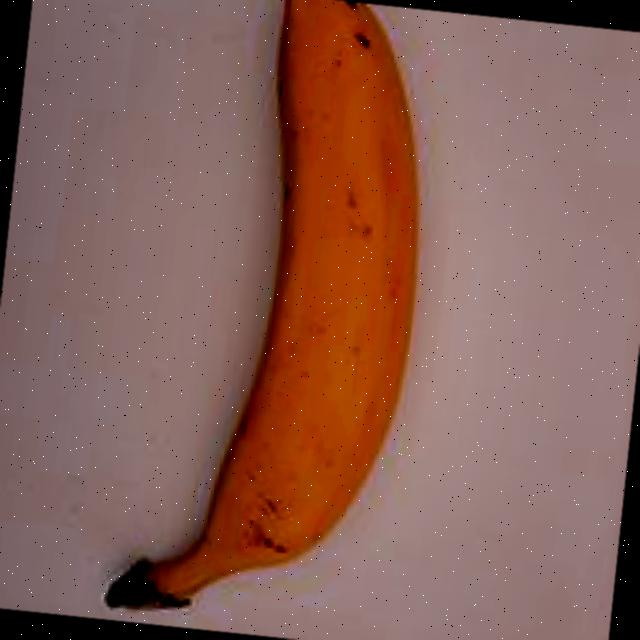Ripe: (53, 0, 464, 640)
